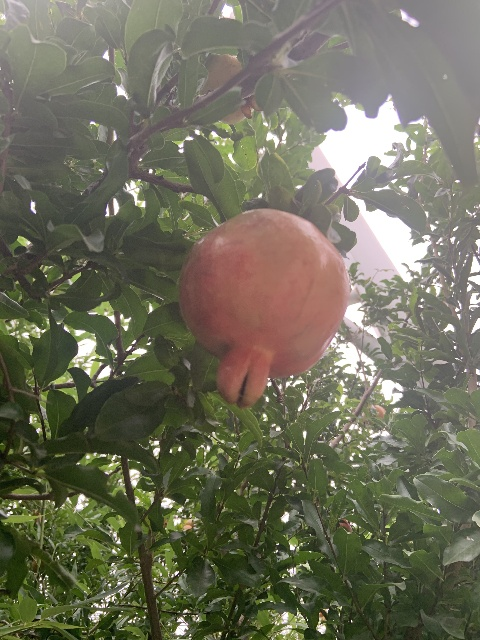ripe: (177, 207, 351, 409)
